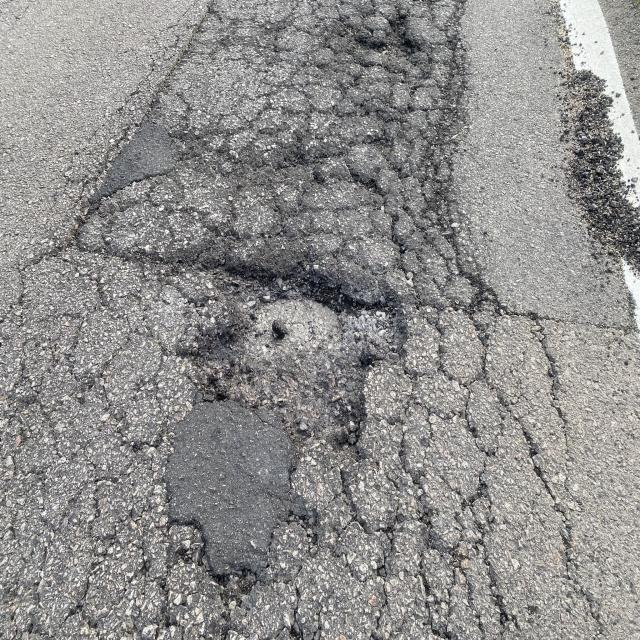Pothole: (136, 219, 401, 640), (297, 0, 502, 128)
